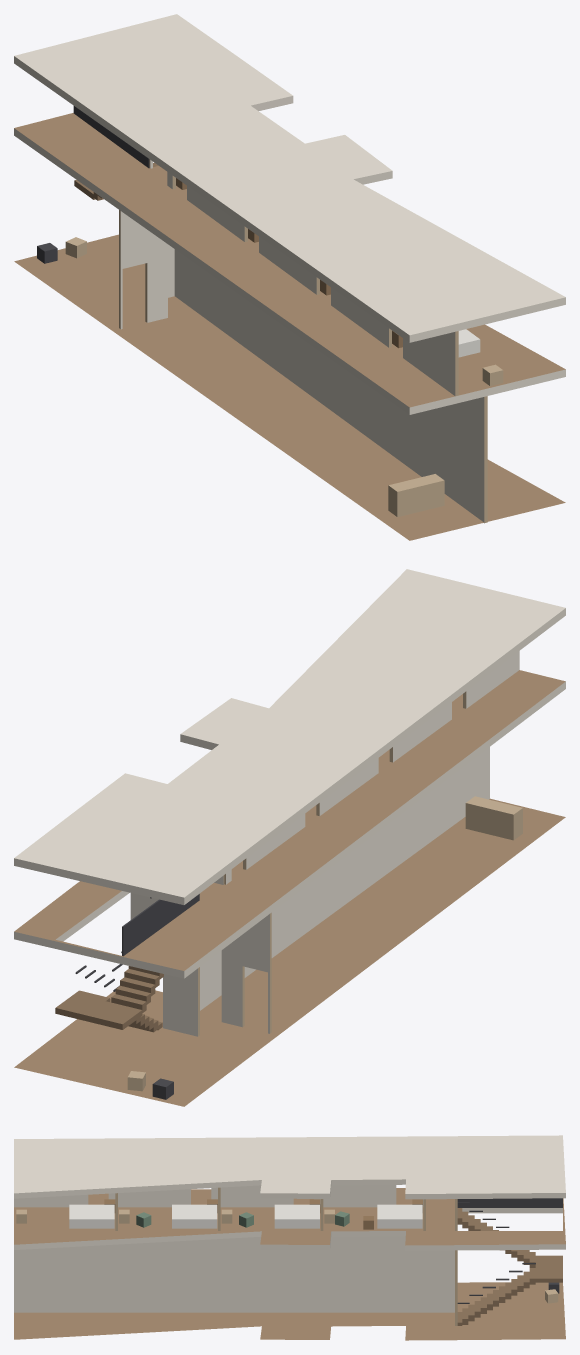
The model's file is interior.glb.
3 views of the same model, one above another, from view 1: azimuth 30°, elevation 25°; view 2: azimuth 150°, elevation 25°; view 3: azimuth 270°, elevation 25° (orthographic). The views are drawn at different scales.
Parts seen in each view (by area): view 1: slabs, partitions, coarse-s0, coarse-s1, stair; view 2: slabs, partitions, stair, coarse-s0; view 3: slabs, partitions, coarse-s1, stair, coarse-s0.
Part boxes in pixels (x1,y1,x2,y2): slabs: (14,14,565,540); partitions: (119,159,487,523); coarse-s0: (37,237,444,517); coarse-s1: (176,178,503,386); stair: (73,106,158,200); slabs: (14,569,565,1106); partitions: (130,651,519,1036); stair: (55,894,199,1032); coarse-s0: (127,796,522,1099); slabs: (14,1135,565,1340); partitions: (14,1185,457,1325); coarse-s1: (16,1199,422,1229); stair: (457,1198,562,1325); coarse-s0: (545,1282,559,1303).
Size of the model in its own units: 6.13 by 7.15 by 24.37.
